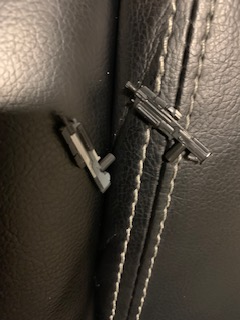rifle: (122, 76, 214, 171), (52, 109, 122, 193)
